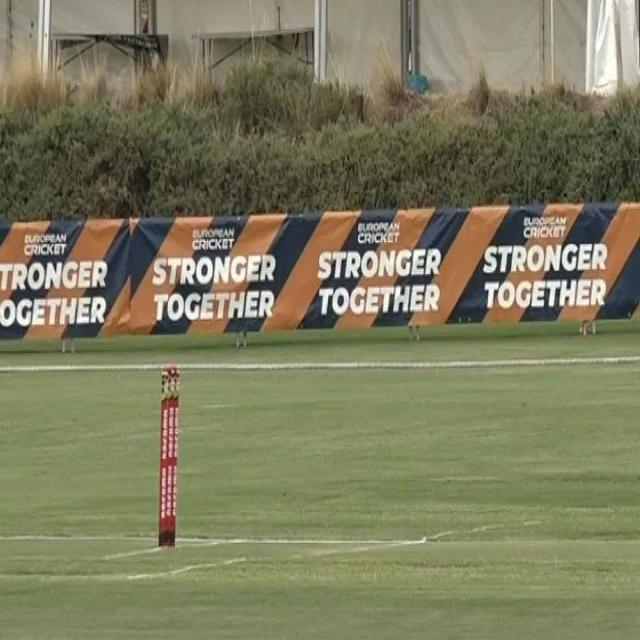stump: (161, 368, 179, 538)
